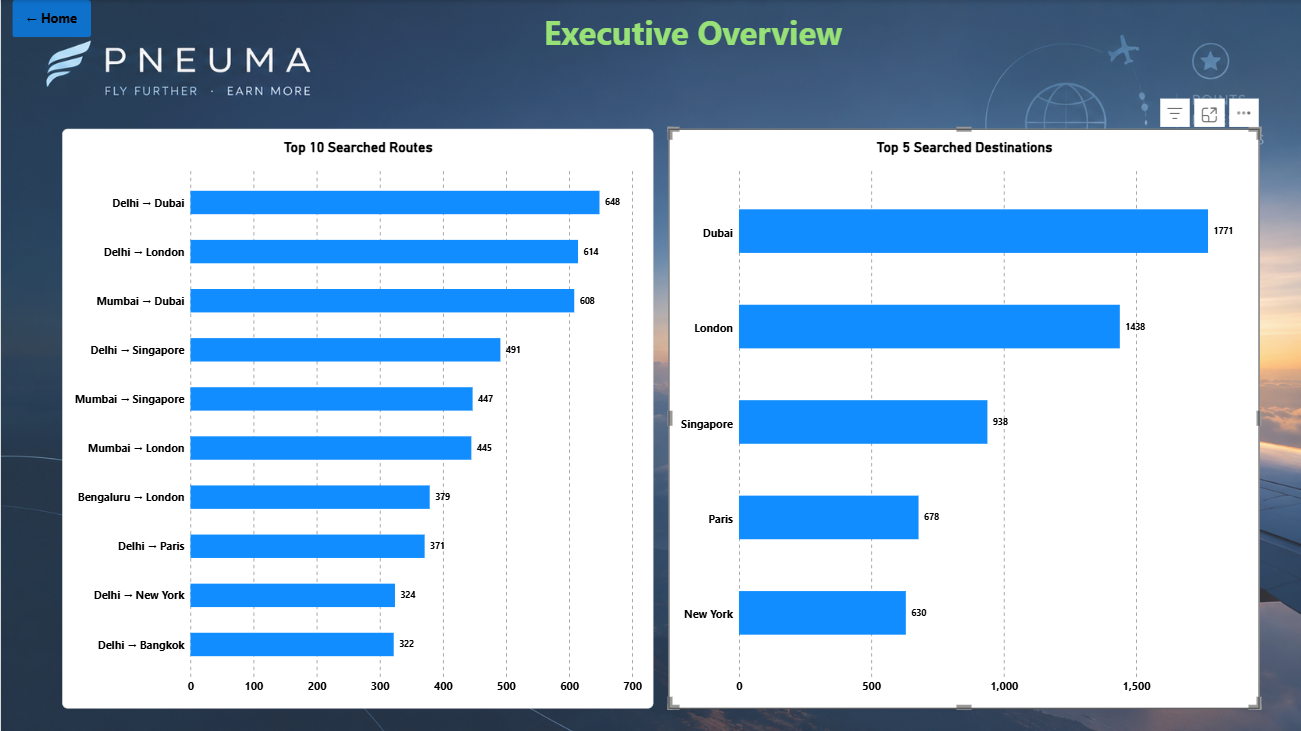

The page's visual inventory and layout, read from the dashboard file:
{"tool":"powerbi","page":{"name":"Executive Overview 2","canvas":[1920,1080],"ordinal":2},"visuals":[{"type":"textbox","box":[209.8,0,1617.8,106.7],"z":0},{"type":"clusteredBarChart","title":"Top 10 Searched Routes","fields":{"Category":["searches.Route"],"Y":["CountNonNull(searches.search_id)"]},"box":[88.3,134.4,870.6,854],"z":1000},{"type":"clusteredBarChart","title":"Top 5 Searched Destinations","fields":{"Category":["searches.destination"],"Y":["CountNonNull(searches.search_id)"]},"box":[988.3,134.4,870.6,854],"z":2000},{"type":"actionButton","box":[16.6,0,116,55],"z":2001}]}

Visuals, with their boxes in screenshot pixels (x1, y1, x2, y2), scaled from the page's 1920x1080 canvas onto the 1301x731 screenshot:
textbox: bbox=[142, 0, 1238, 72]
"Top 10 Searched Routes" clusteredBarChart: bbox=[60, 91, 650, 669]
"Top 5 Searched Destinations" clusteredBarChart: bbox=[670, 91, 1260, 669]
actionButton: bbox=[11, 0, 90, 37]
